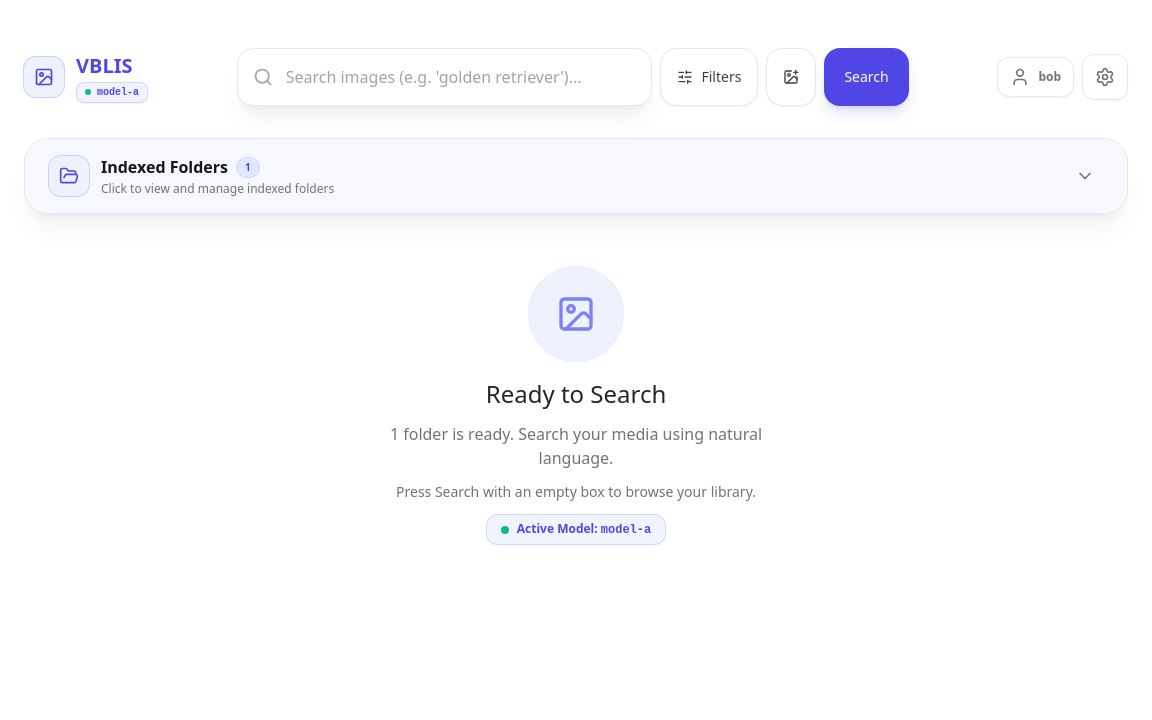
App in a browser › as a viewer › hides the queue, folder management, owner settings and the model actions
This screenshot has width=1152, height=720.
Check: the heading "Ready to Search" is shown, box x1=486 y1=378 x2=666 y2=410
Click the heading "Indexed Folders" at (164, 167), box x1=101 y1=155 x2=228 y2=179
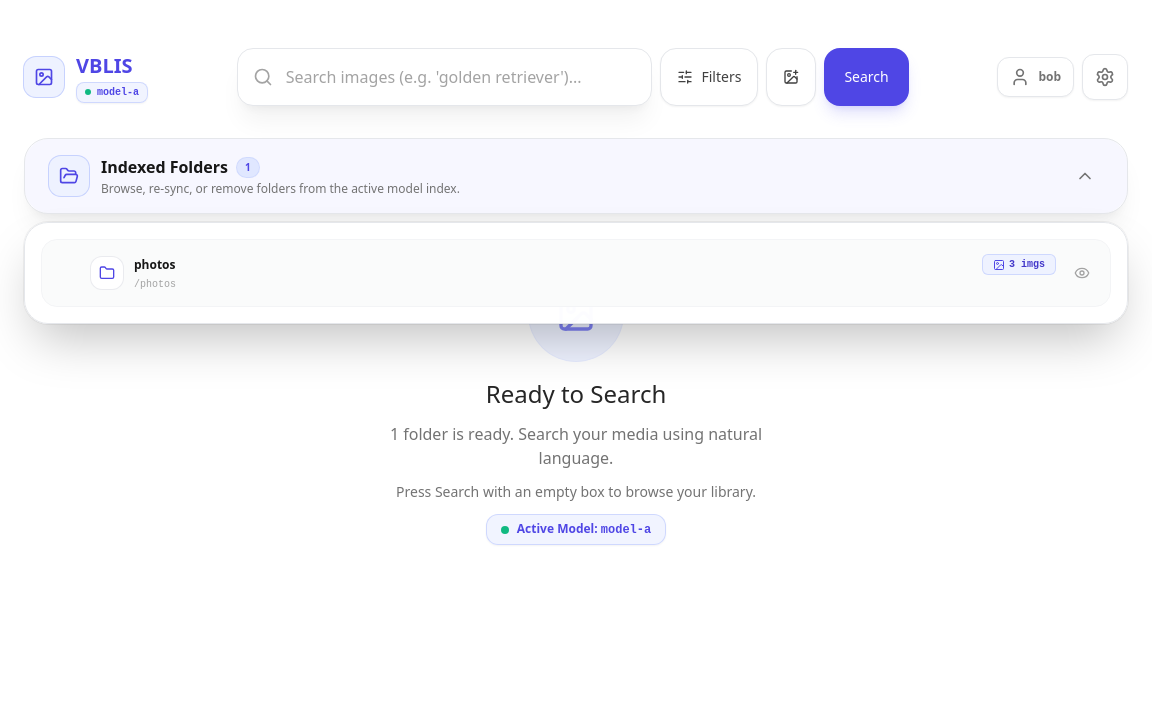
Check: the text "photos" is shown, box x1=134 y1=256 x2=176 y2=272
Check: the button titled "View media gallery & contents" is shown, box x1=1068 y1=259 x2=1096 y2=287
Click the button with class "hover" at (1105, 77), box x1=1082 y1=54 x2=1128 y2=100
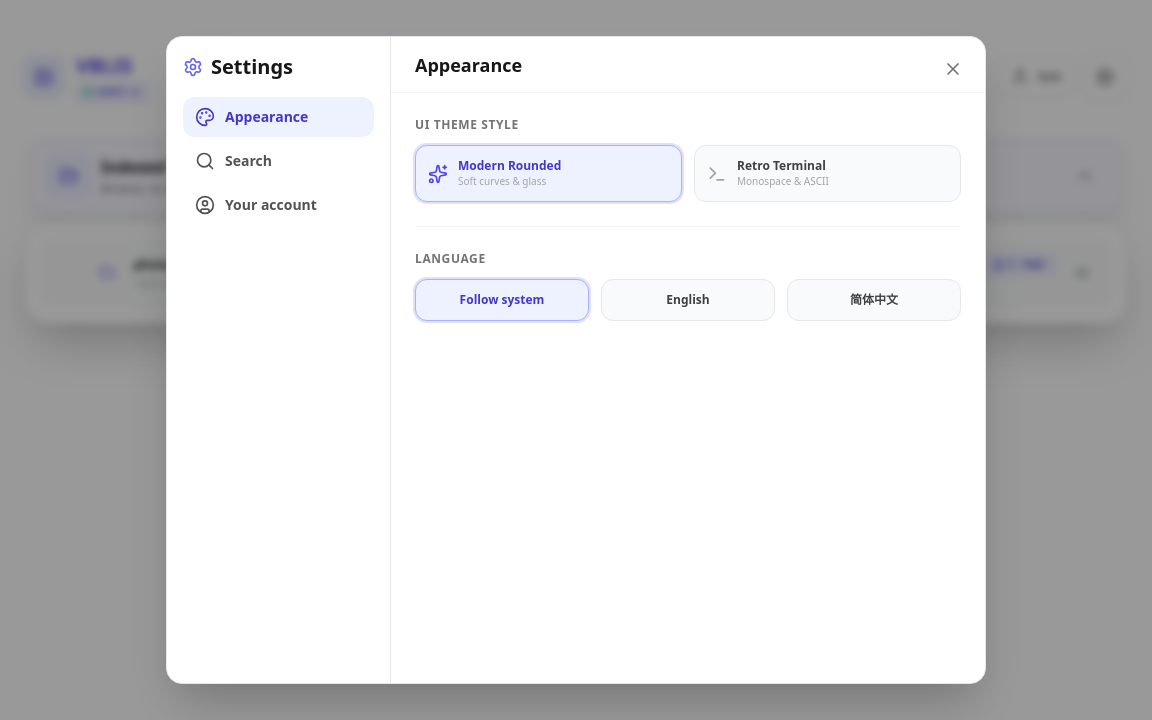
Check: the heading "Settings" is shown, box x1=183 y1=53 x2=293 y2=80
Check: the heading "UI Theme Style" is shown, box x1=415 y1=116 x2=519 y2=133
Check: the heading "Language" is shown, box x1=415 y1=250 x2=486 y2=267
Click the tab "Search" at (278, 161), box x1=183 y1=141 x2=374 y2=181
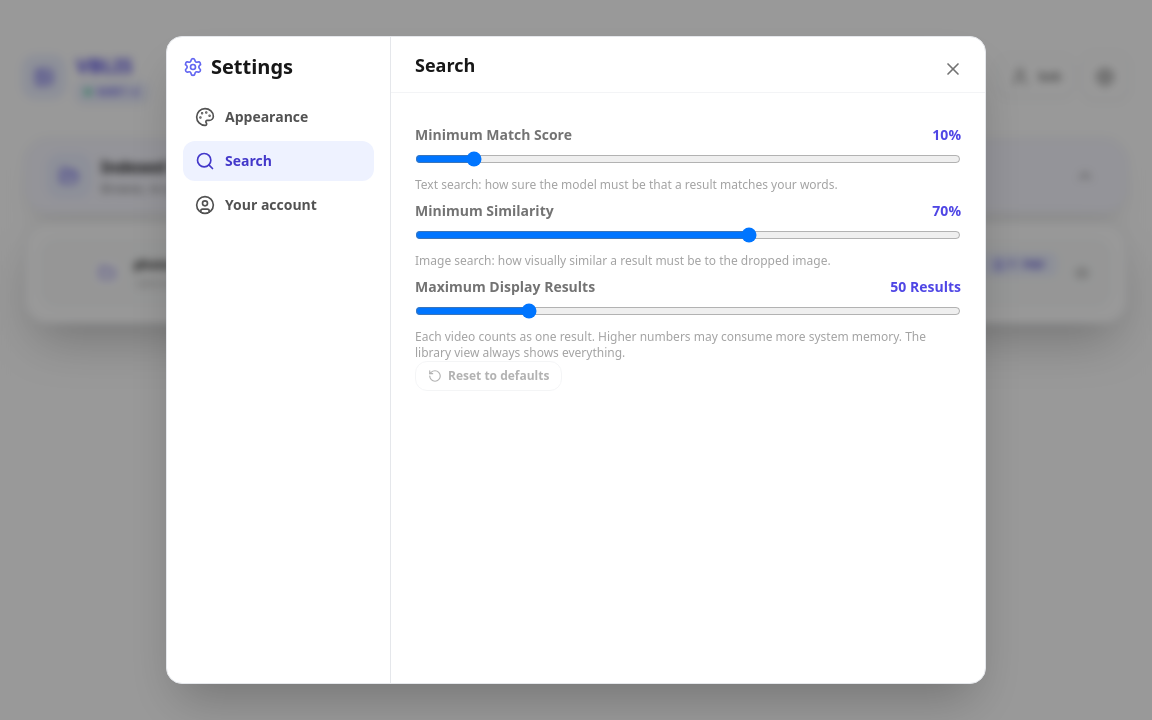
Check: the text "Minimum Match Score" is shown, box x1=415 y1=125 x2=572 y2=145
